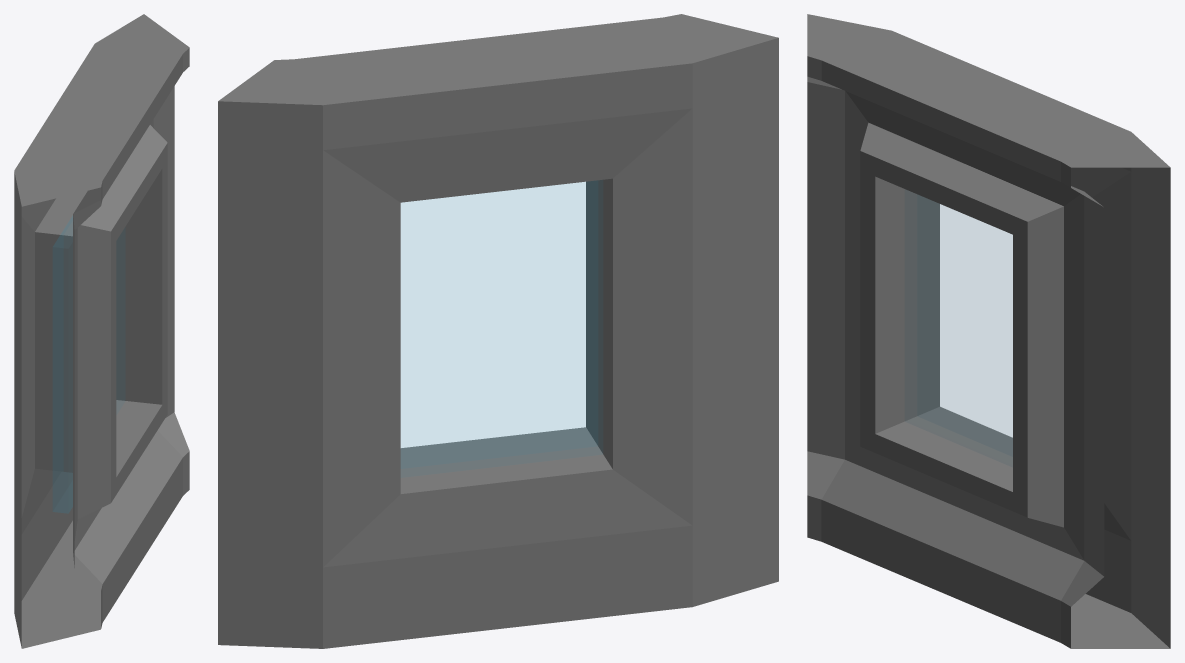
Rendered from r2Window.fbx.
3 views of the same model, side by side, from view 1: azimuth 30°, elevation 25°; view 2: azimuth 150°, elevation 25°; view 3: azimuth 270°, elevation 25° (orthographic). The views are drawn at different scales.
Visible parts, largest first — view 1: r2Window, Window.001; view 2: r2Window, Window.001; view 3: r2Window, Window.001.
Boxes of the visible parts, bbox=[...] form: r2Window: bbox=[14, 14, 189, 648]; Window.001: bbox=[53, 216, 72, 512]; r2Window: bbox=[218, 14, 778, 648]; Window.001: bbox=[401, 181, 597, 468]; r2Window: bbox=[807, 14, 1170, 648]; Window.001: bbox=[917, 195, 1012, 456].
Bounding box in the file's own units: 1095 × 1600 × 1095.
